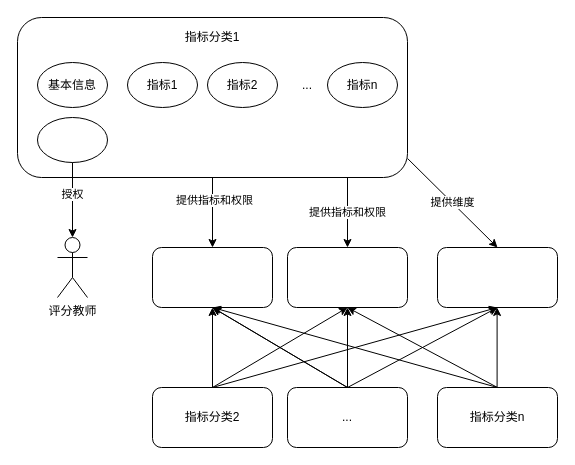
This 575x465 diagram has some shape labels left out. The centre of each missing label's shape, as x and y in pixels:
"发起巡查" belongs at pixel 347 277.
"德育评比" belongs at pixel 497 277.
"评分组" belongs at pixel 72 139.
"配置应用" belongs at pixel 212 277.
